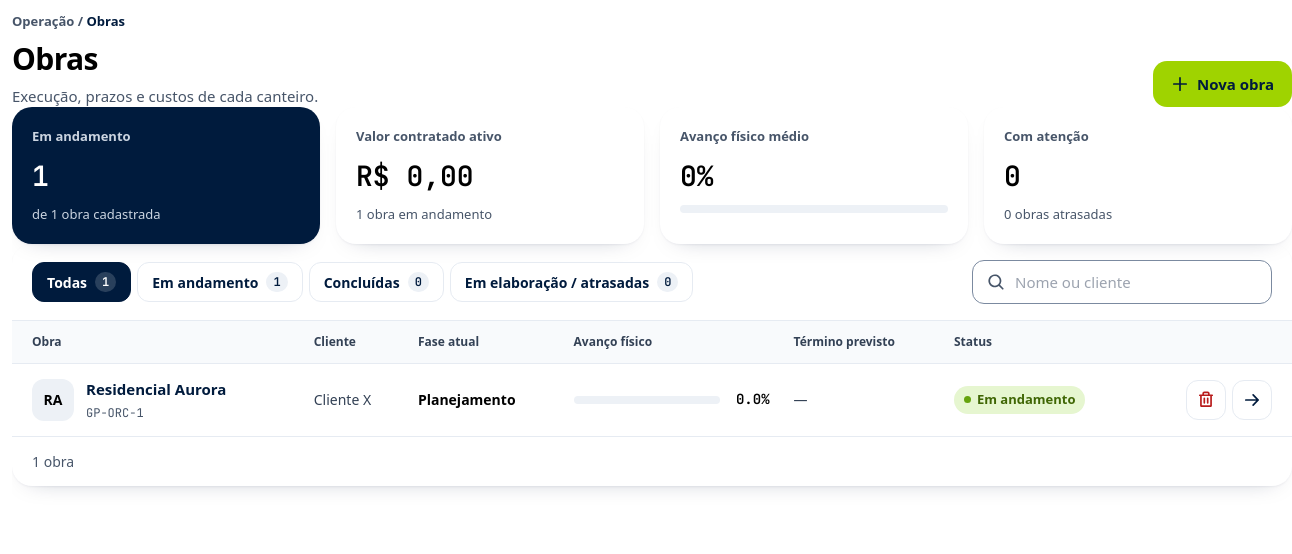
Scenario: excluir obra na listagem › exclui a obra real (não o orçamento) depois de confirmar e recarrega a lista
Click the button named "excluir obra residencial aurora". click: coordinates (1206, 400)
box: [1186, 380, 1226, 420]
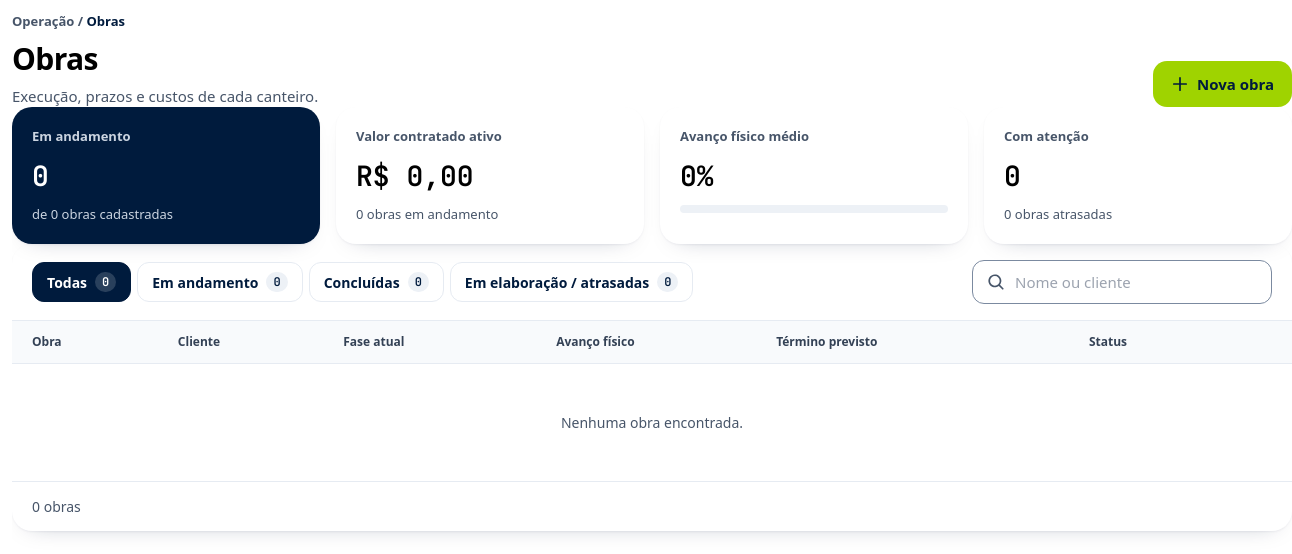
Expected: the text "Nenhuma obra encontrada." is shown, [12, 364, 1291, 481]
